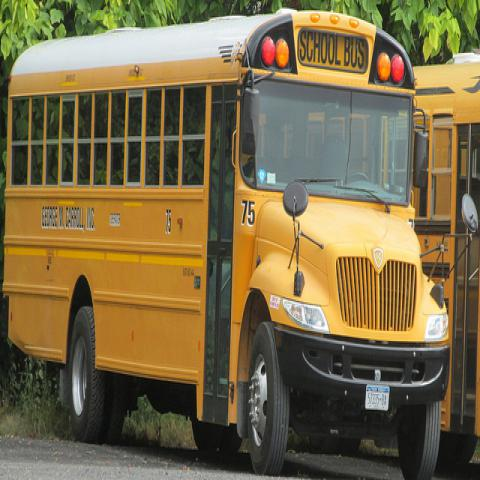bus: (0, 9, 479, 478), (412, 47, 480, 446)
